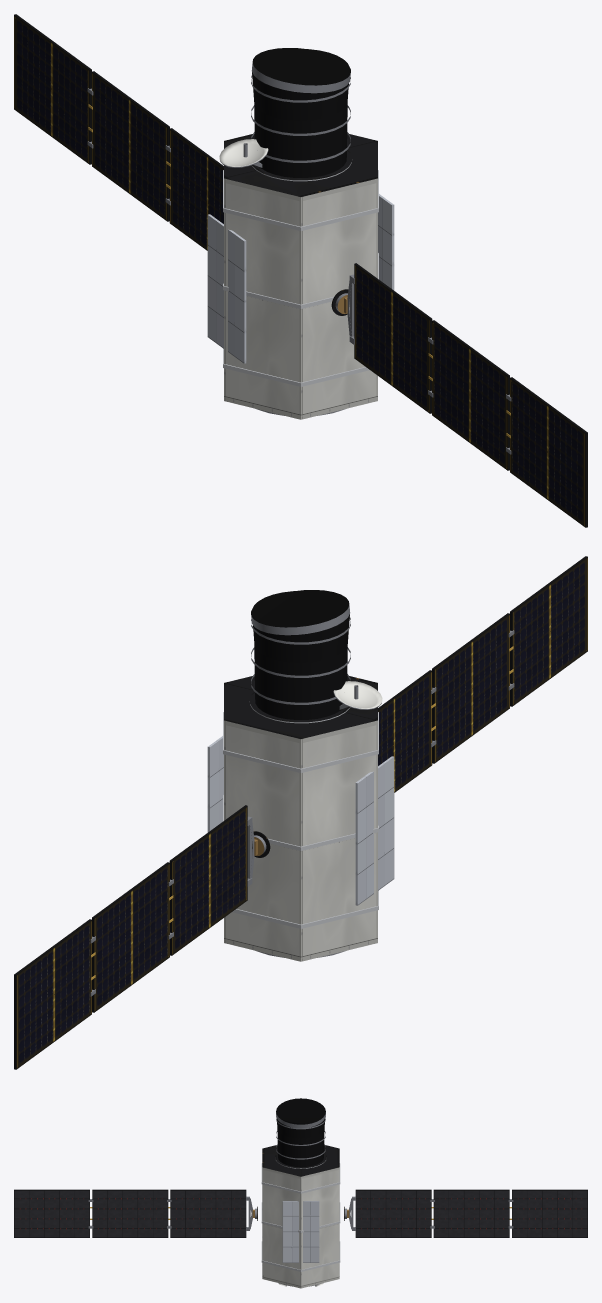
Rendered from kompsat-7.glb.
3 views of the same model, one above another, from view 1: azimuth 30°, elevation 25°; view 2: azimuth 150°, elevation 25°; view 3: azimuth 270°, elevation 25° (orthographic). The views are drawn at different scales.
Visible parts, largest first — view 1: bus, wing-Y, wing+Y; view 2: bus, wing+Y, wing-Y; view 3: bus, wing+Y, wing-Y.
Boxes of the visible parts, box(x1,y1,x2,y2) form: bus: box(207, 48, 394, 419); wing-Y: box(344, 263, 587, 527); wing+Y: box(14, 14, 223, 250); bus: box(207, 590, 394, 961); wing+Y: box(14, 805, 257, 1069); wing-Y: box(378, 556, 587, 792); bus: box(261, 1098, 340, 1288); wing+Y: box(347, 1189, 587, 1237); wing-Y: box(14, 1189, 254, 1237).
Bounding box in the file's own units: 1.73 × 3.59 × 10.94.
Materials: 15 (5 with a texture image).
